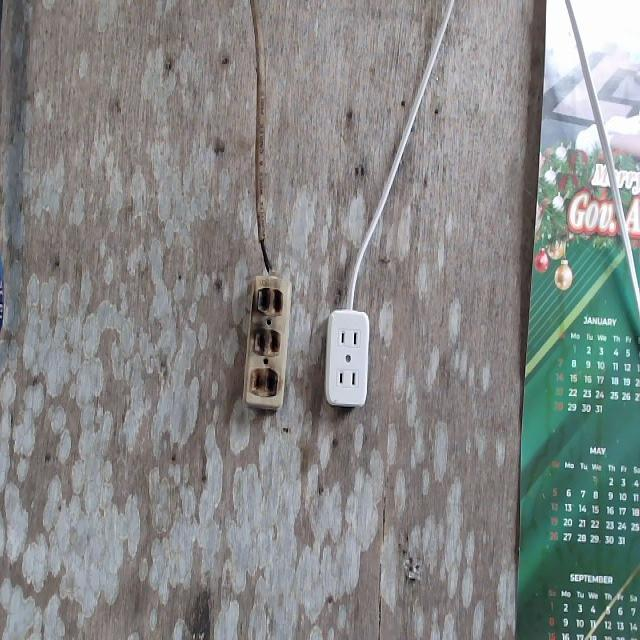-: (248, 284, 284, 403)
